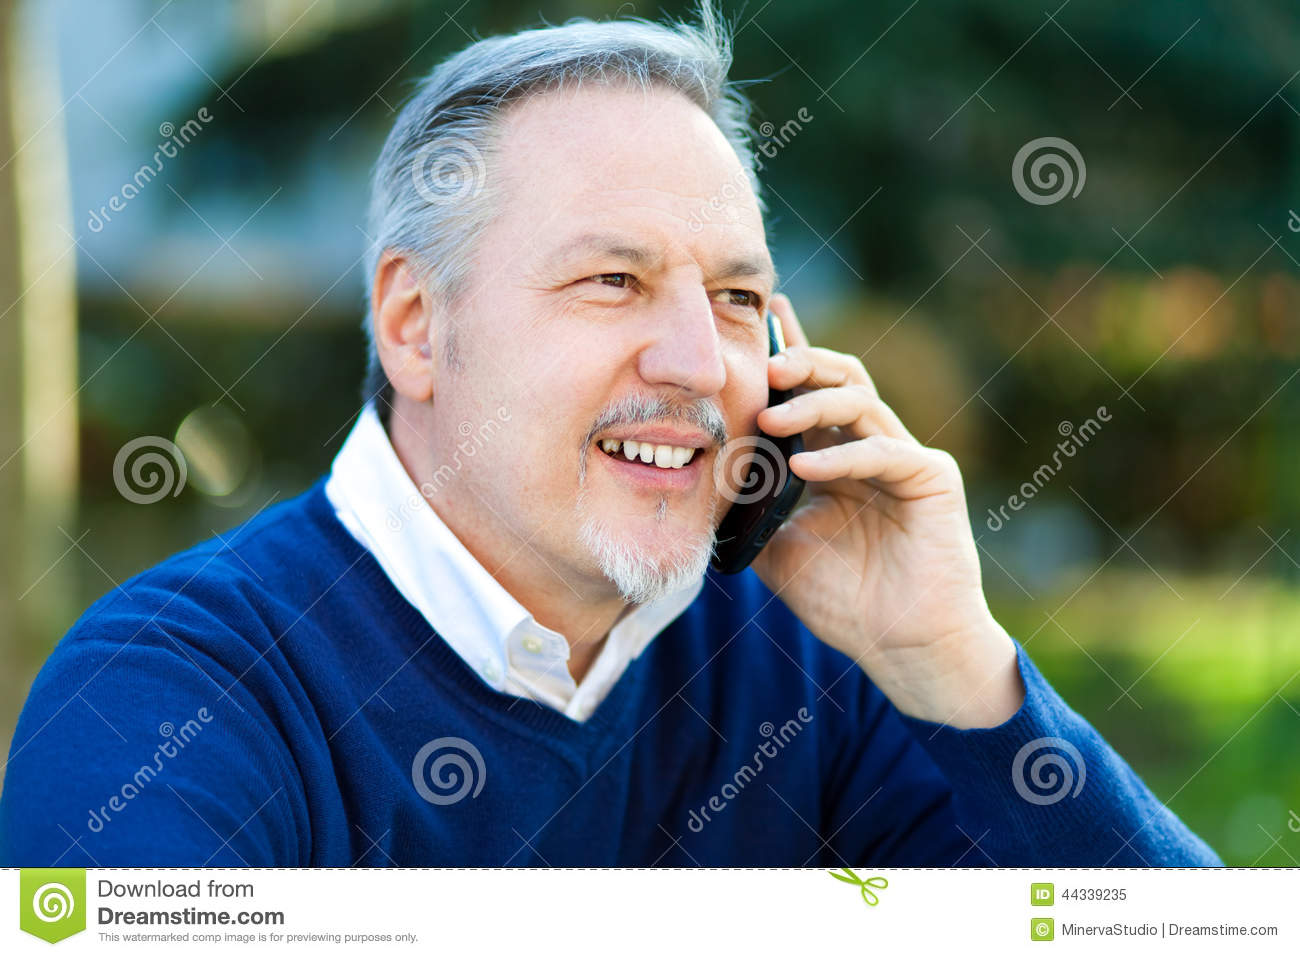phone: (717, 306, 805, 576)
talk: (522, 209, 985, 682)
